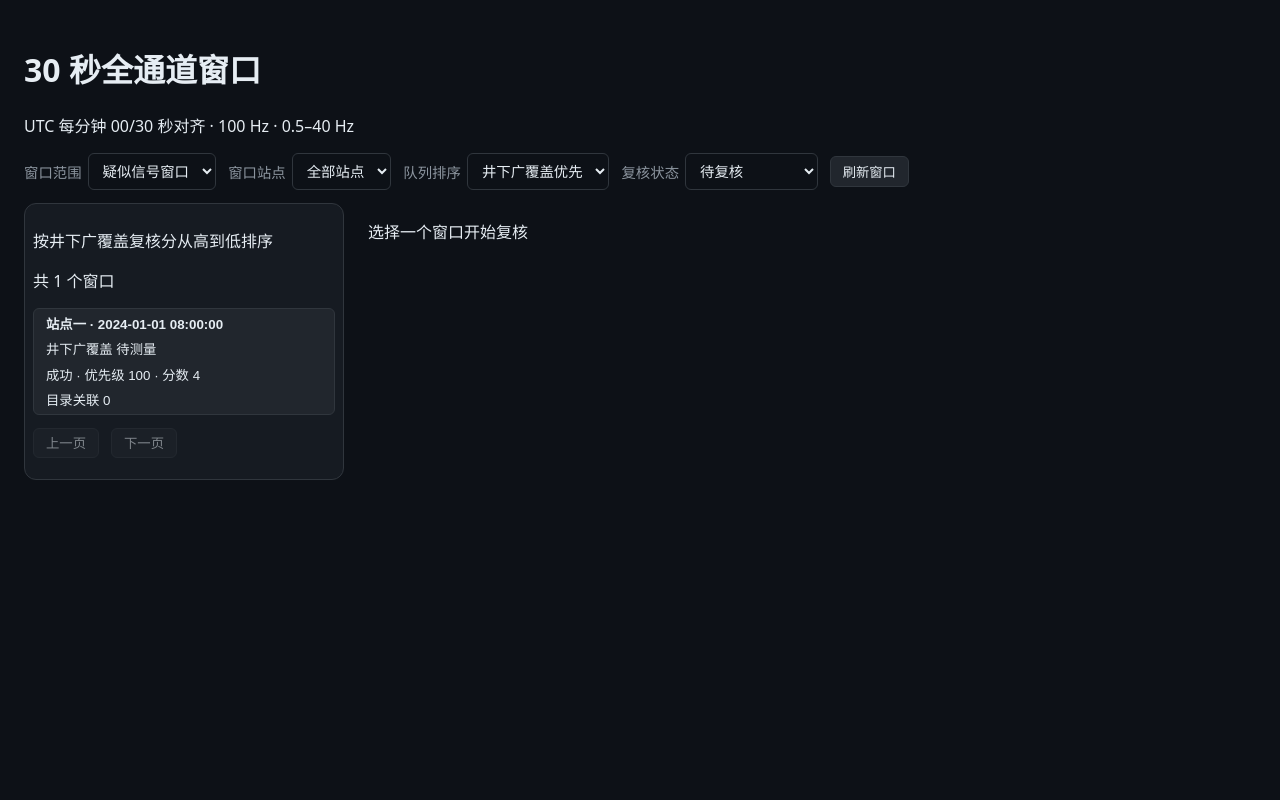
it: formats evidence rule scores while preserving zero: 12345.6789
Click the button "站点一".
click(66, 324)  # box x1=33 y1=308 x2=335 y2=415
(page scrolled)
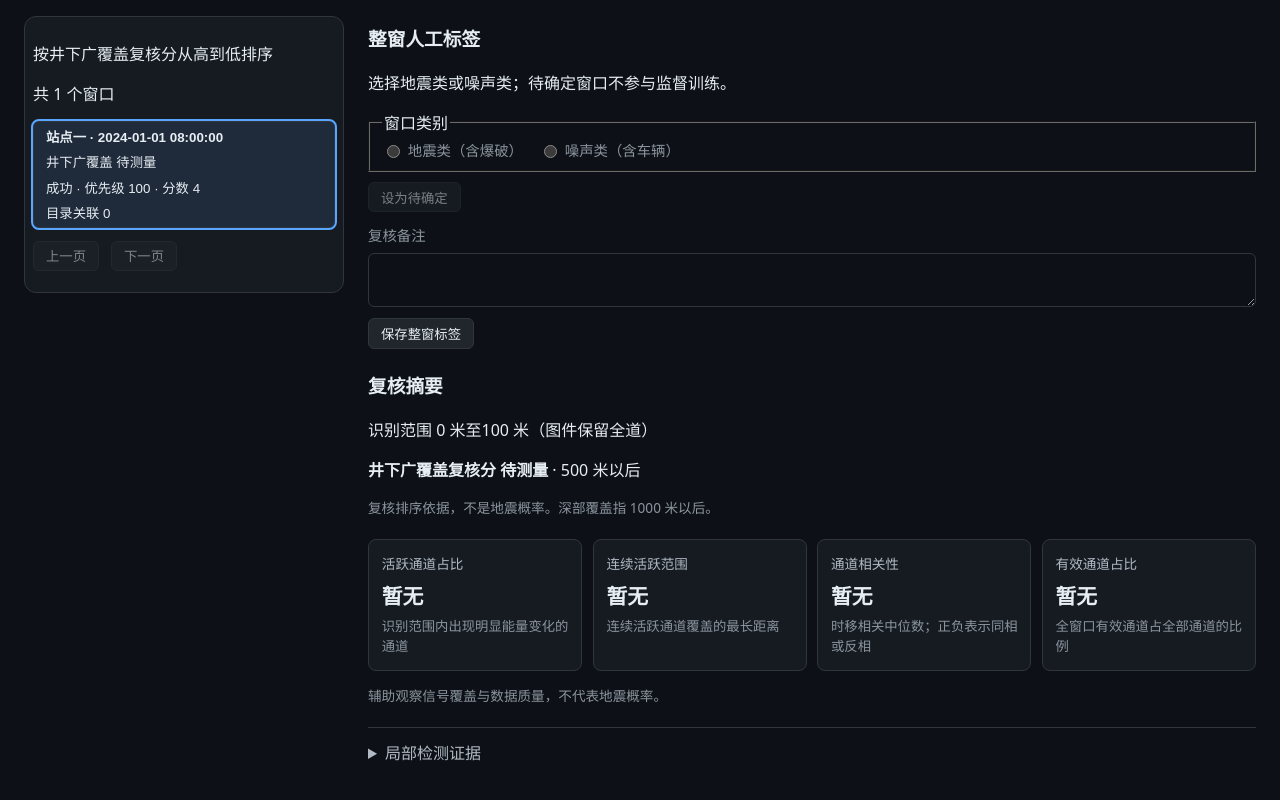
Click the heading "局部检测证据".
click(433, 753)  # box x1=385 y1=742 x2=481 y2=764
(page scrolled)
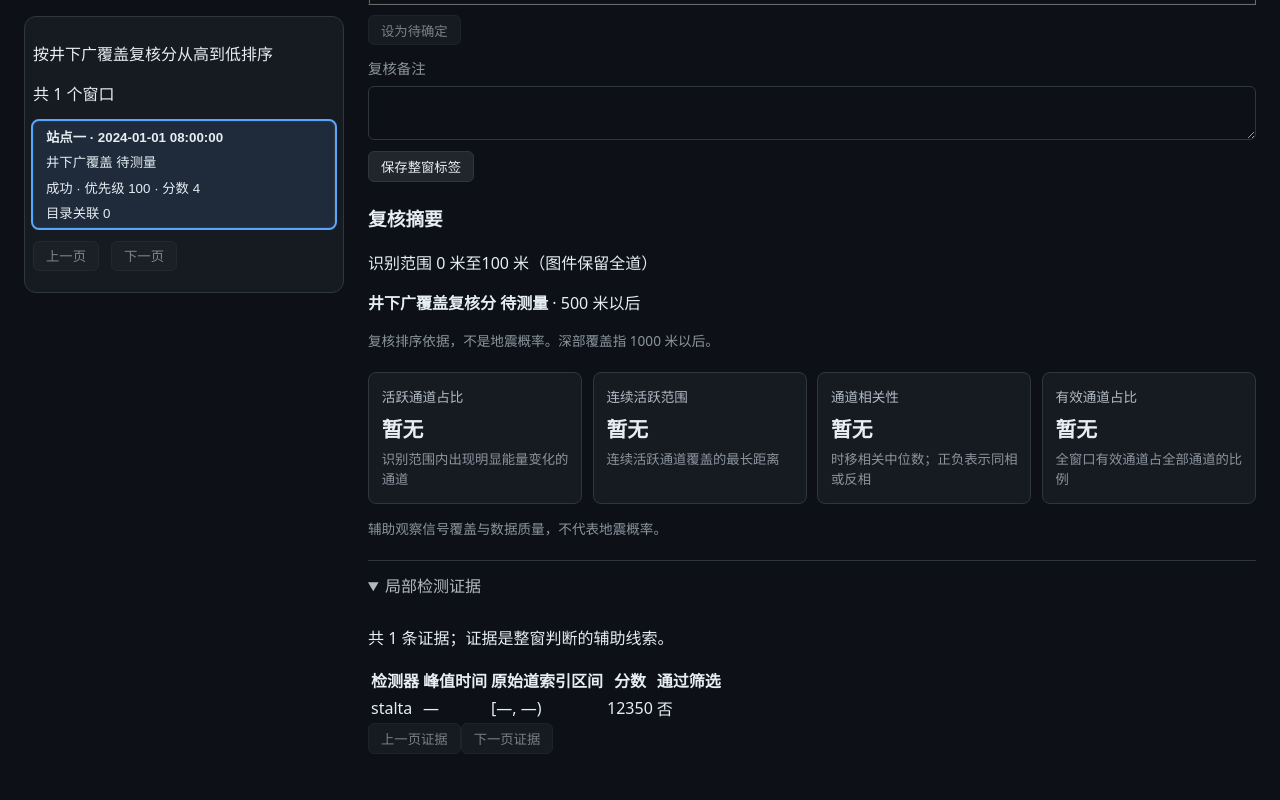
Result: the cell "12350" is shown at x1=606 y1=695 x2=654 y2=721
